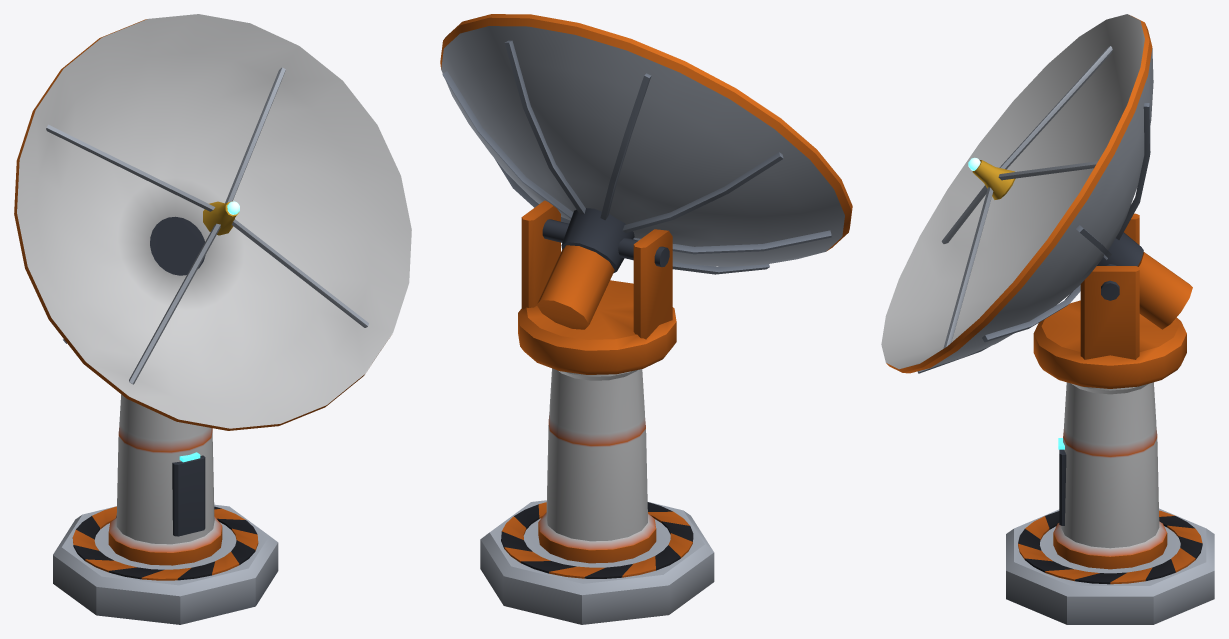
The model's file is satellite_dish.glb.
3 renders of one model, left to right at view 1: azimuth 30°, elevation 25°; view 2: azimuth 150°, elevation 25°; view 3: azimuth 270°, elevation 25°, orthographic. The views are drawn at different scales.
Visible parts, largest first — view 1: satellite_dish; view 2: satellite_dish; view 3: satellite_dish.
Boxes of the visible parts, x1,y1,x2,y2 form: satellite_dish: (14, 14, 411, 624); satellite_dish: (440, 14, 852, 624); satellite_dish: (881, 14, 1214, 624).
Bounding box in the file's own units: 4.38 × 6.09 × 3.39.
